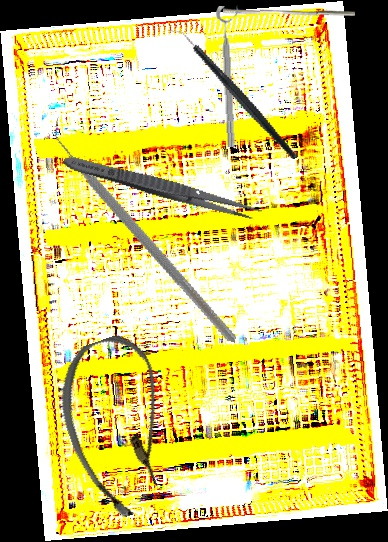Cannula: (43, 327, 196, 526)
Chopper: (9, 114, 284, 343), (165, 1, 300, 186)
Dressing Forceps: (60, 150, 265, 225)
Fixation Ring: (215, 4, 248, 148)
Pusher: (222, 5, 356, 19)
